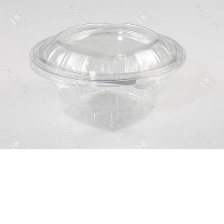plastic_box: (21, 14, 194, 136)
